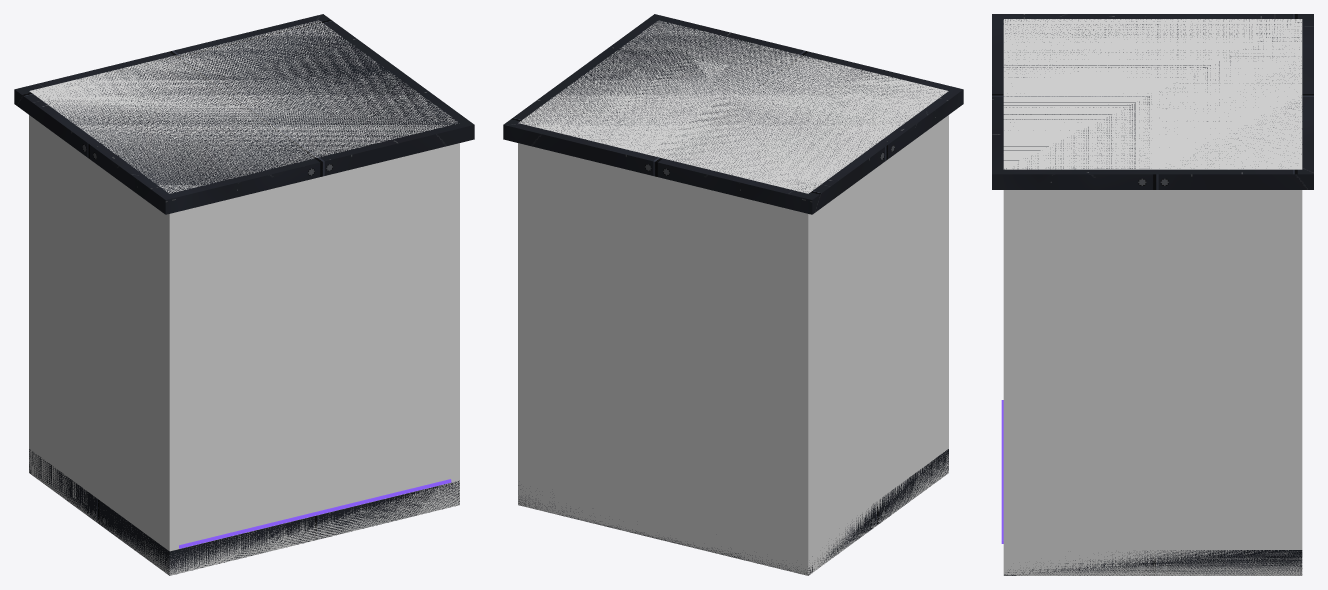
Rendered from Furn_Arcade_Stand.gltf.
3 renders of one model, left to right at view 1: azimuth 30°, elevation 25°; view 2: azimuth 150°, elevation 25°; view 3: azimuth 270°, elevation 25°, orthographic. The views are drawn at different scales.
Visible parts, largest first — view 1: Furn_Arcade_Stand_COL, Furn_Arcade_Stand; view 2: Furn_Arcade_Stand_COL, Furn_Arcade_Stand; view 3: Furn_Arcade_Stand_COL, Furn_Arcade_Stand.
Part boxes in pixels (bbox=[...]): Furn_Arcade_Stand_COL: bbox=[29, 20, 459, 575]; Furn_Arcade_Stand: bbox=[14, 14, 474, 575]; Furn_Arcade_Stand_COL: bbox=[518, 20, 948, 575]; Furn_Arcade_Stand: bbox=[503, 14, 963, 575]; Furn_Arcade_Stand_COL: bbox=[1003, 19, 1302, 575]; Furn_Arcade_Stand: bbox=[992, 14, 1313, 575].
Bounding box in the file's own units: 0.66 × 0.78 × 0.56.
Materials: 3 (2 with a texture image).
